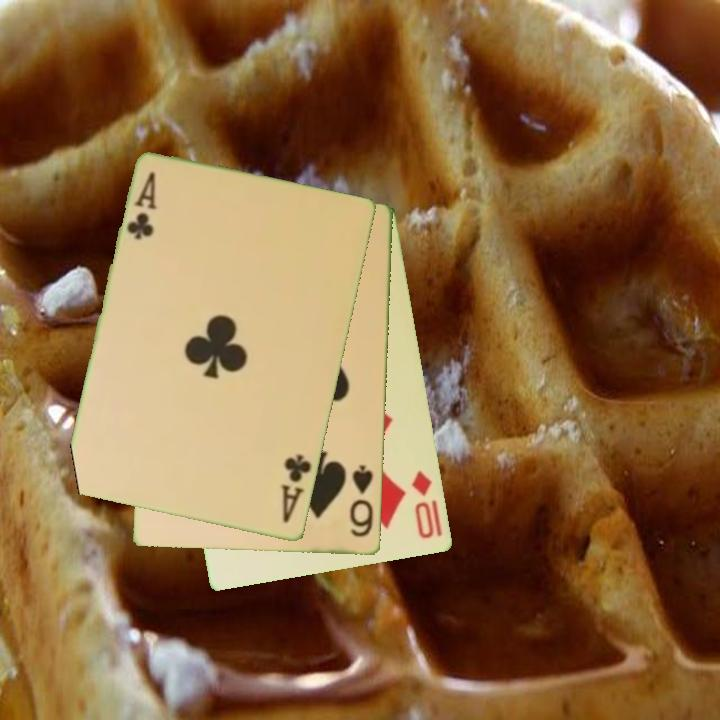10d: (408, 467, 438, 542)
6s: (346, 462, 377, 541)
Ac: (278, 451, 315, 527), (123, 168, 160, 243)
